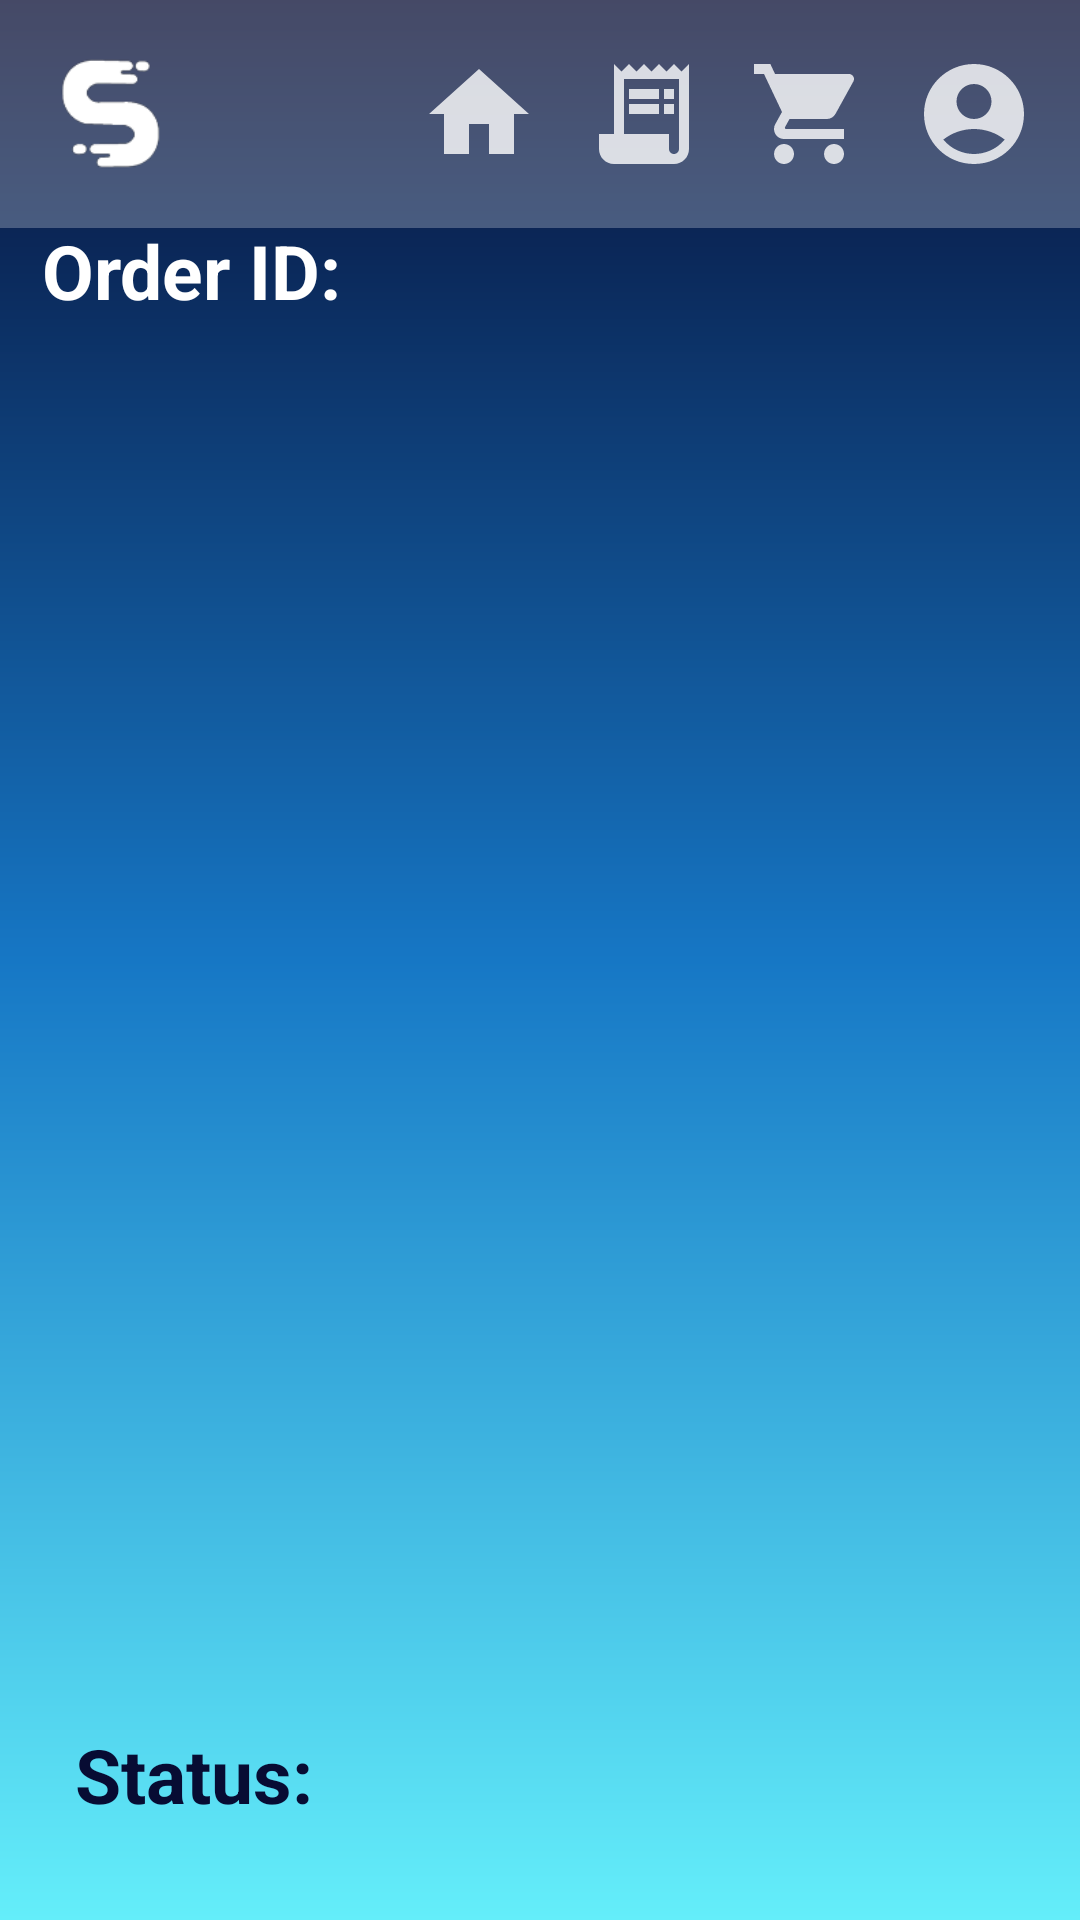

Locate icon controls on the screen. Image size 1080x1920, boxes as (x1, y1, x2, y2).
Accounts: (924, 64, 1024, 164)
Cart: (726, 64, 891, 204)
Home: (429, 69, 529, 154)
Orders: (599, 64, 689, 164)
